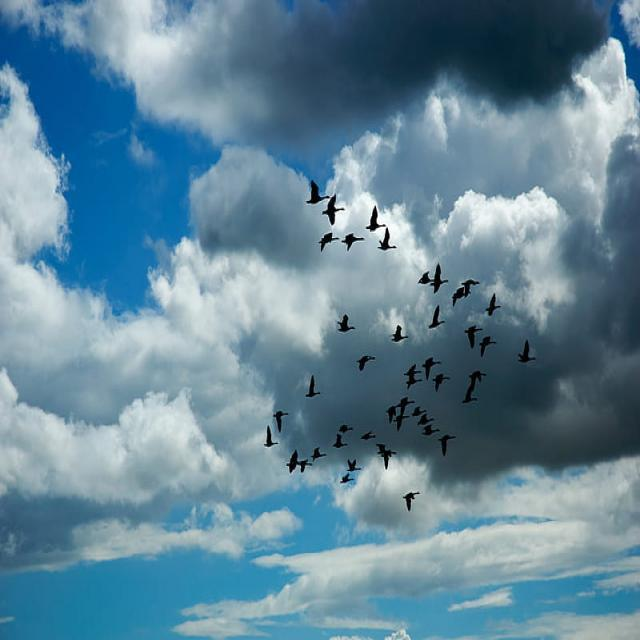bird: (303, 175, 329, 210), (428, 261, 452, 295), (374, 226, 398, 256), (333, 311, 358, 339), (321, 196, 344, 226), (364, 206, 387, 236), (396, 487, 422, 513), (515, 338, 539, 366), (426, 306, 446, 336), (316, 230, 340, 253), (422, 352, 444, 377), (272, 404, 289, 436), (304, 373, 322, 402), (386, 324, 411, 344), (486, 290, 502, 320), (437, 433, 457, 457), (340, 233, 366, 251), (284, 447, 300, 476), (463, 322, 480, 349), (357, 353, 378, 374), (462, 274, 479, 296), (478, 336, 495, 358), (264, 426, 278, 452), (331, 434, 348, 455), (360, 426, 378, 444), (432, 373, 448, 393), (345, 454, 364, 470), (310, 447, 326, 463), (409, 403, 426, 418), (338, 474, 356, 488)
